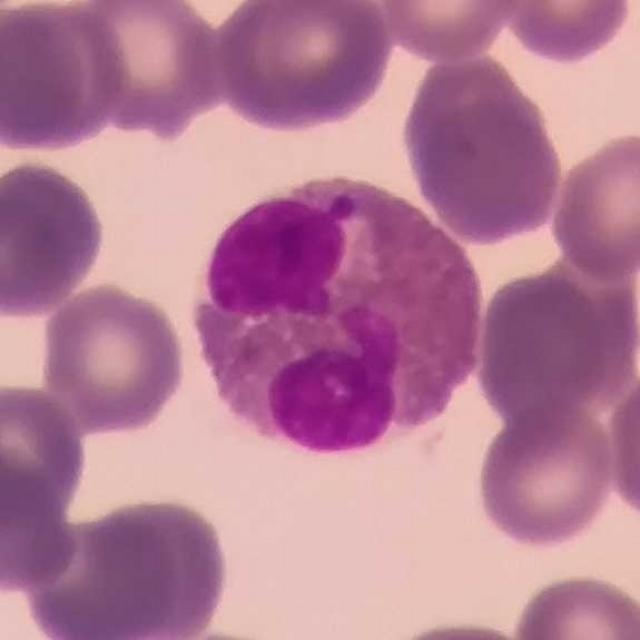Eosinophil: (186, 177, 493, 452)
RBC: (398, 52, 569, 247), (470, 260, 631, 428), (210, 0, 398, 135), (17, 497, 190, 639), (36, 278, 189, 438), (472, 399, 619, 553), (65, 0, 227, 136), (90, 493, 236, 640), (0, 156, 110, 322), (0, 0, 105, 156), (546, 125, 640, 282), (0, 378, 90, 526), (0, 459, 82, 596), (494, 0, 638, 68), (374, 0, 527, 63), (510, 569, 640, 640), (602, 364, 640, 532), (374, 614, 544, 640)
